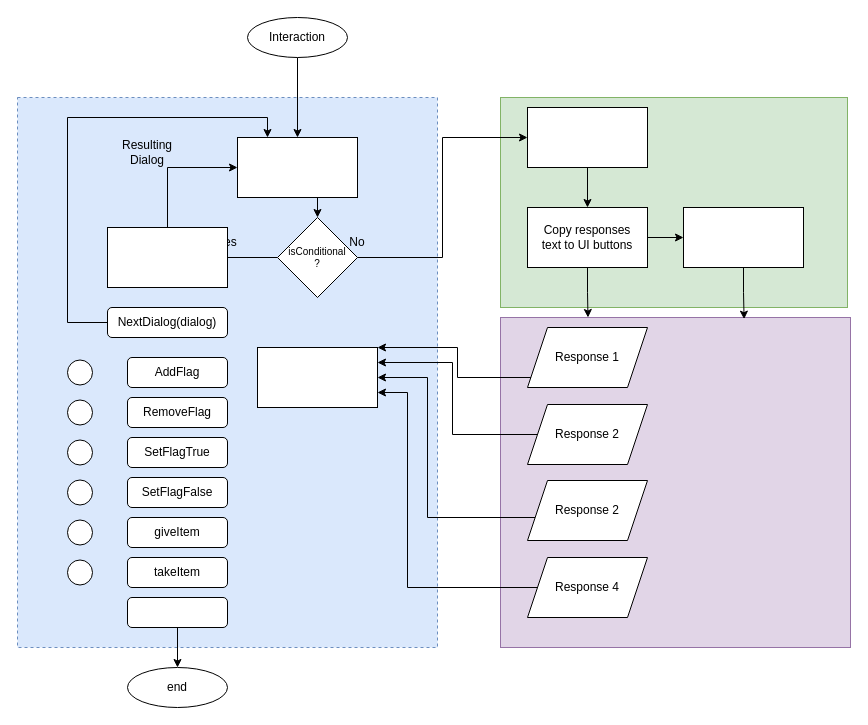
Image size: 868x725. Some labels were removed from this diagram. The box of each missing label's shape, as (x1, y1, x2, y2) in pixels:
Copy Dialog to UI: (526, 106, 648, 168)
Copy responses actions to response action: (682, 206, 804, 268)
endDialog: (126, 596, 228, 628)
Process Actions[ ]: (256, 346, 378, 408)
Process Condition: (106, 226, 228, 288)
ProcessDialog (dialog): (236, 136, 358, 198)
